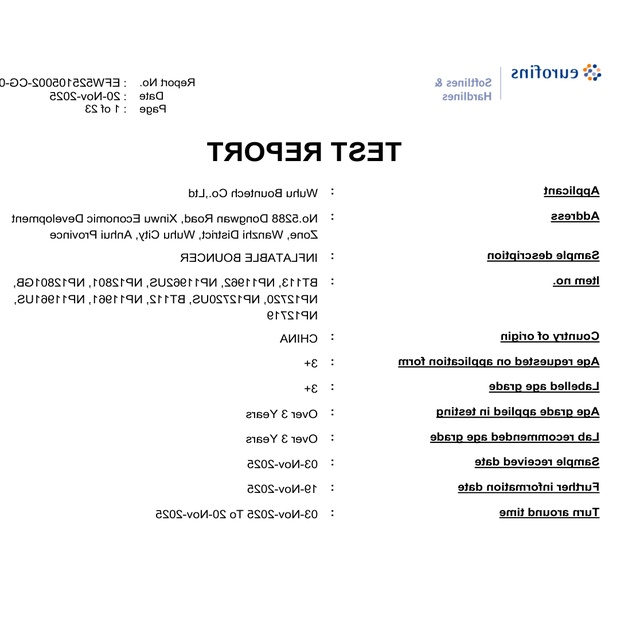eurofins: (507, 57, 606, 86)
